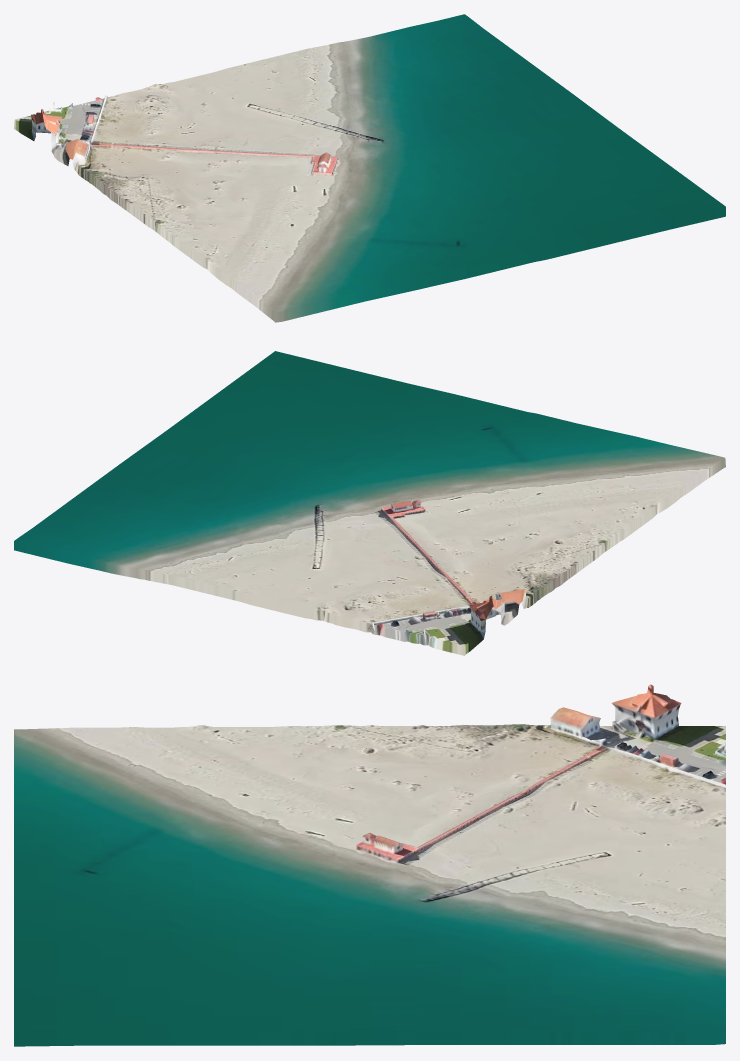
File: z17-20947-50647-h0-yup-uvflip-v3-world.glb
3 renders of one model, top to bottom at view 1: azimuth 30°, elevation 25°; view 2: azimuth 150°, elevation 25°; view 3: azimuth 270°, elevation 25°, orthographic. The views are drawn at different scales.
Bounding box in the file's own units: 242 × 23.68 × 243.
1 material, 1 textured.
